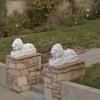Statue: (7, 29, 80, 74)
